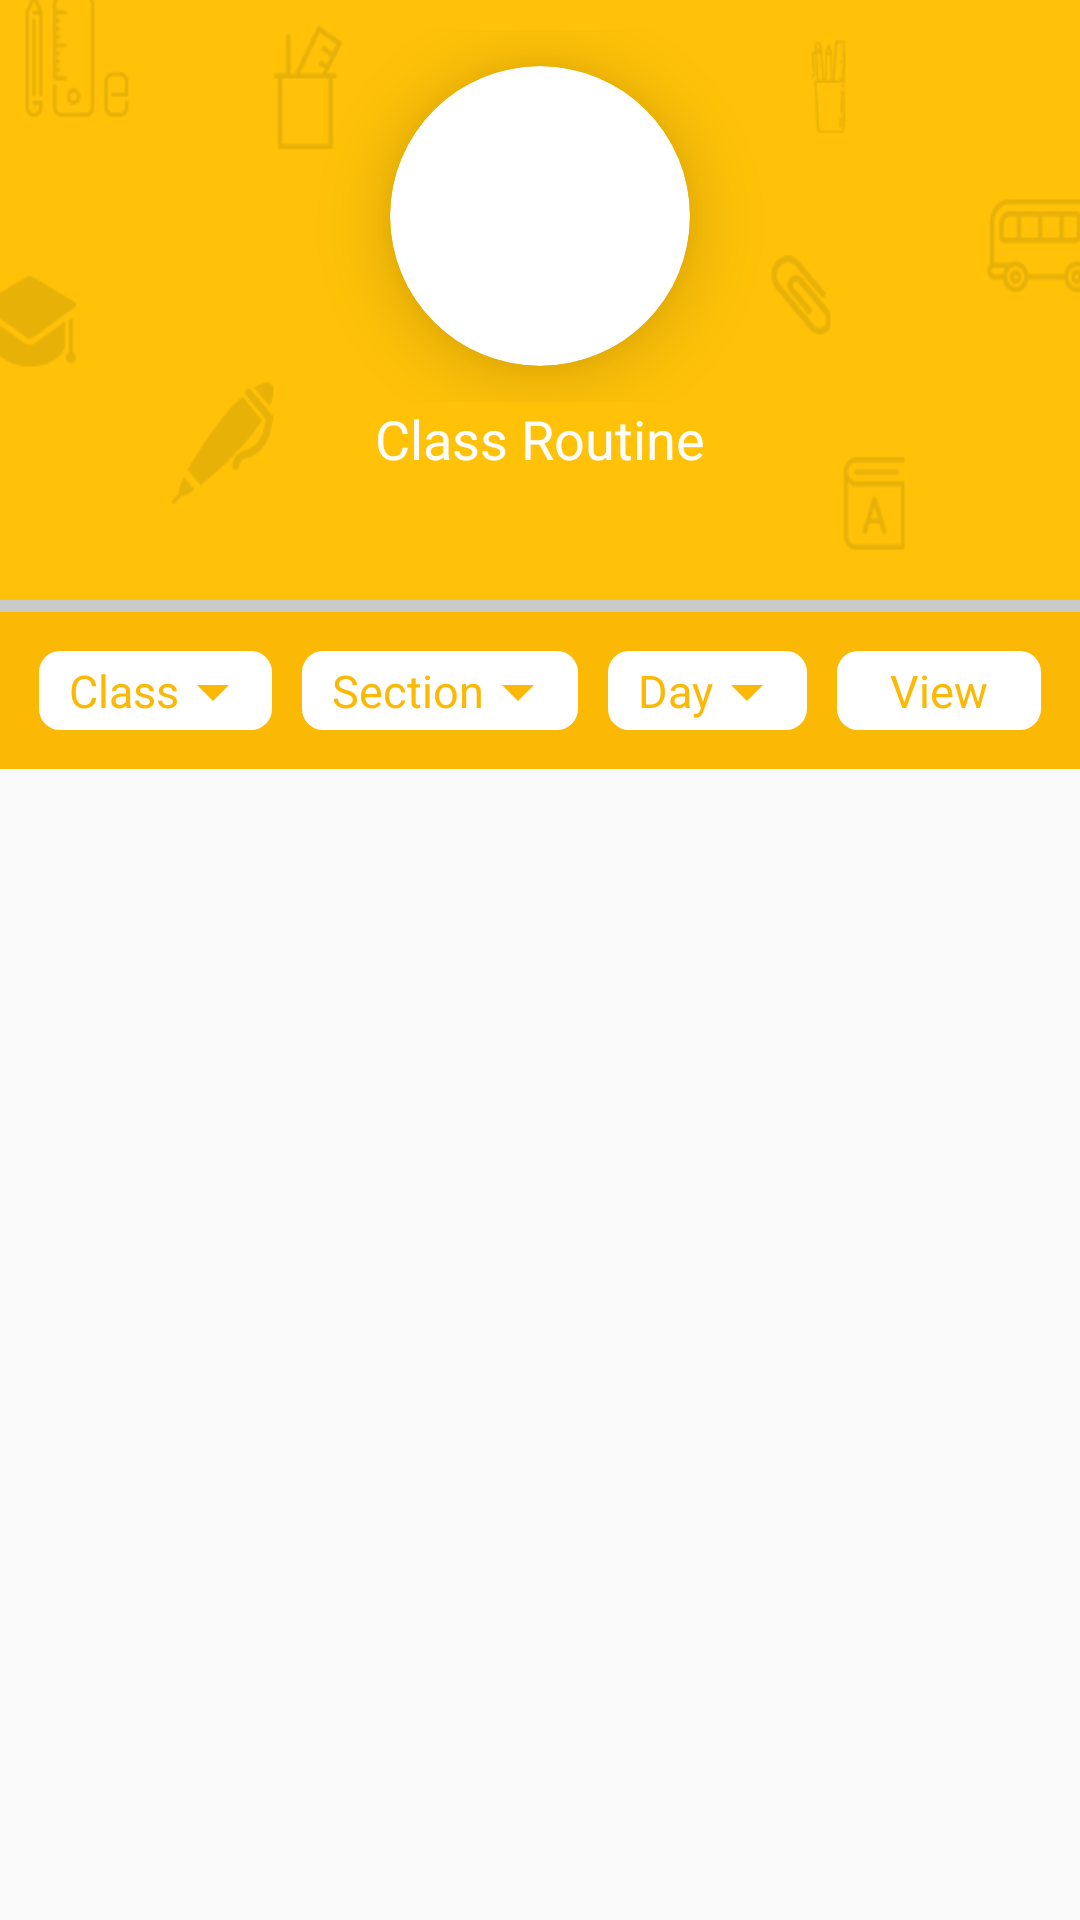

Icon click points for this 1080*1920 phone screenshot, format [x,y]:
drop down app: [213,693], [518,693], [747,693]
